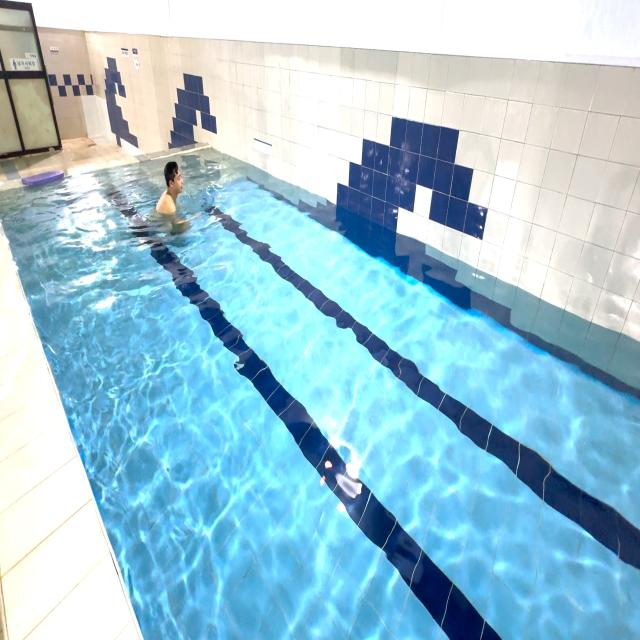Swimming: (148, 146, 196, 244)
